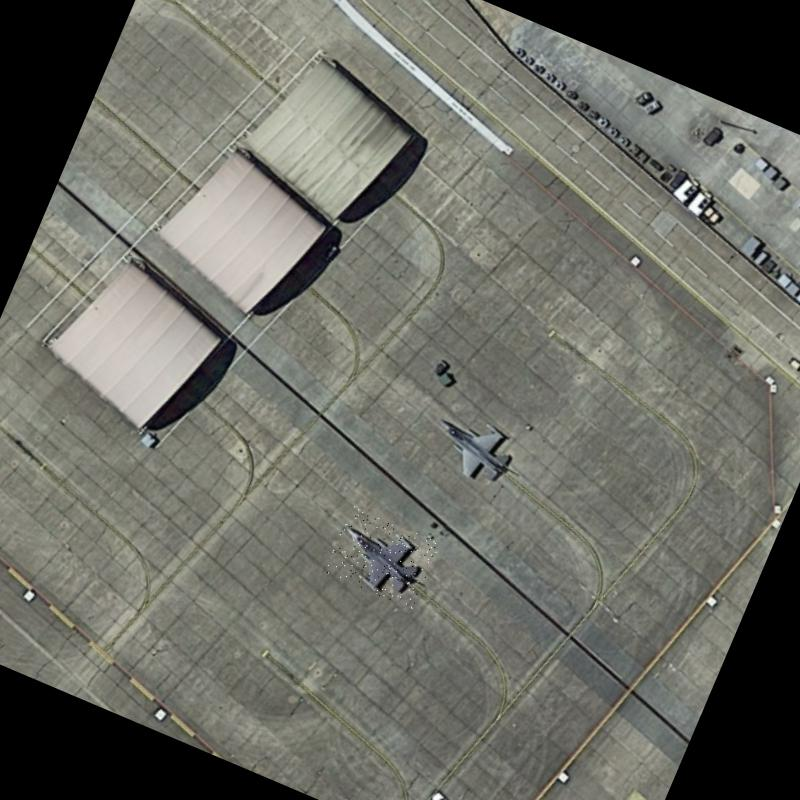A5: (324, 506, 440, 610), (417, 398, 529, 496)
